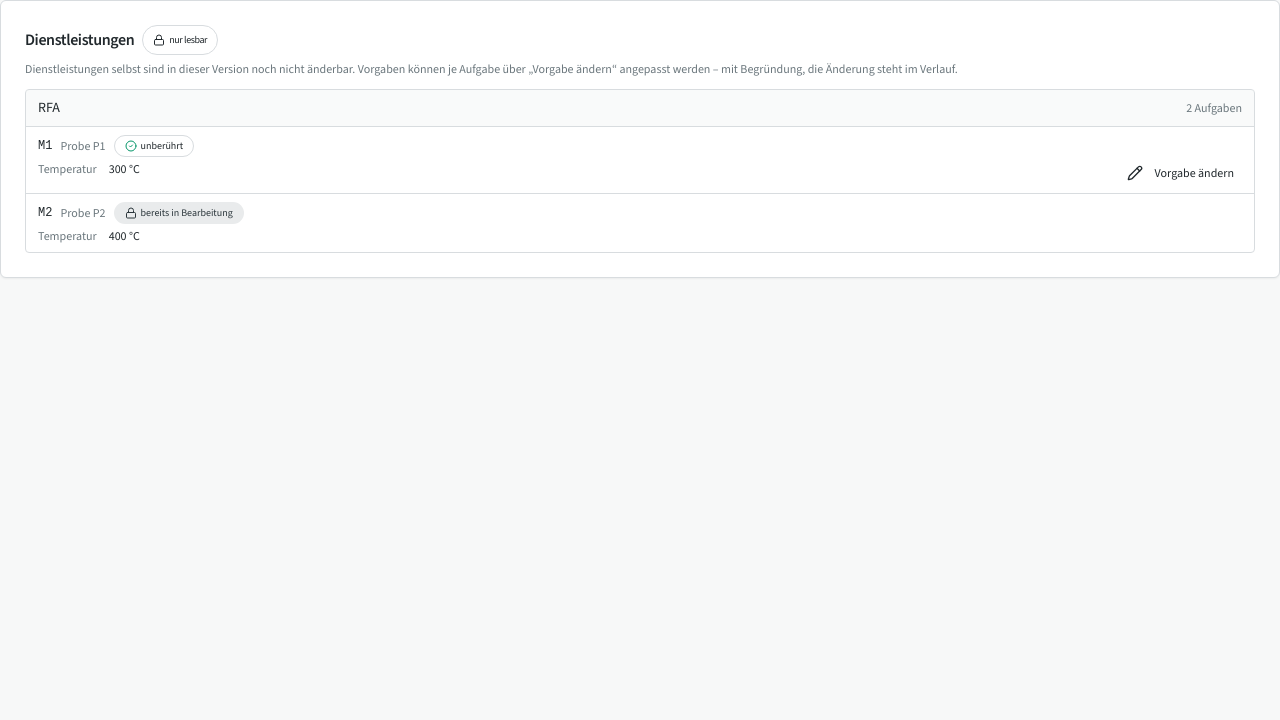
it: Stufe 2: Vorgaben je Aufgabe ändern › mit Berechtigung: Knopf nur bei nicht abgeschlossenen Aufgaben, öffnet den Dialog mit Begründungspflicht
Click the button with aria-label "Vorgabe Temperatur ändern" at {"x": 1180, "y": 173}, box [1119,161,1242,185]
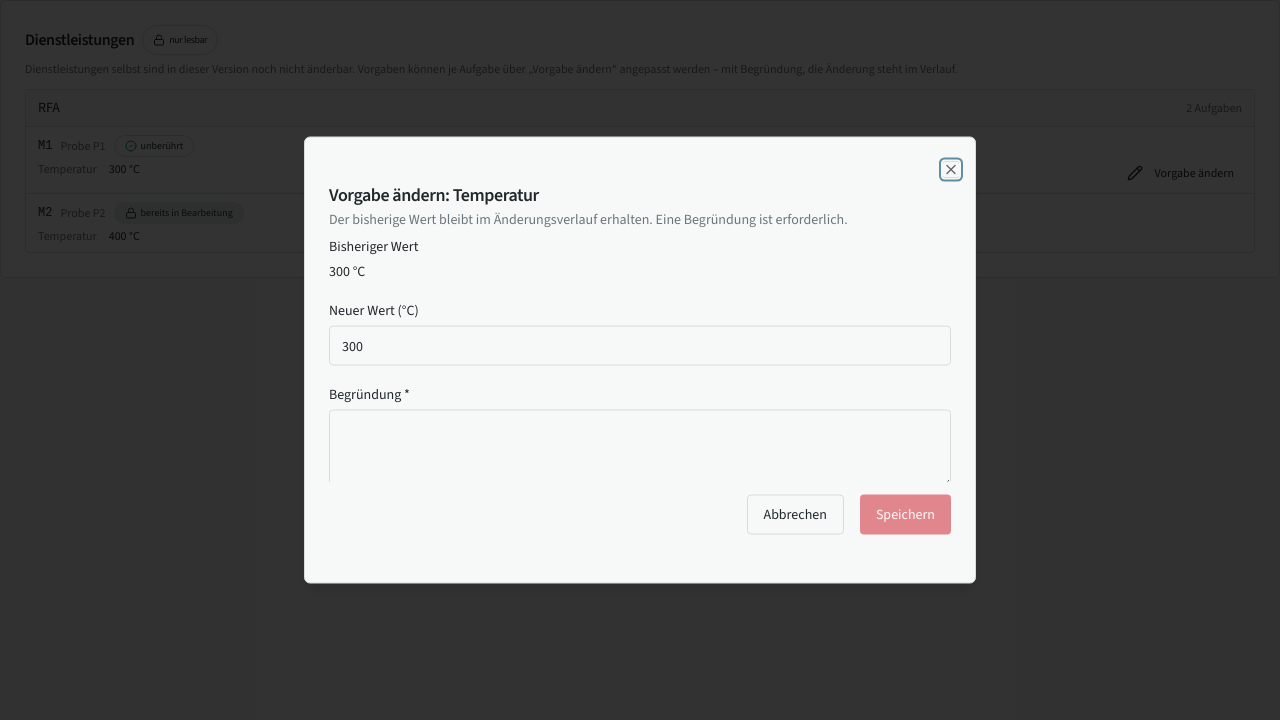
Expected: the heading "Vorgabe ändern: Temperatur" is shown, [329,182,539,206]
Expected: the text "Begründung *" is shown, [329,384,410,404]
Expected: the button "Speichern" is disabled, [860,494,951,534]
